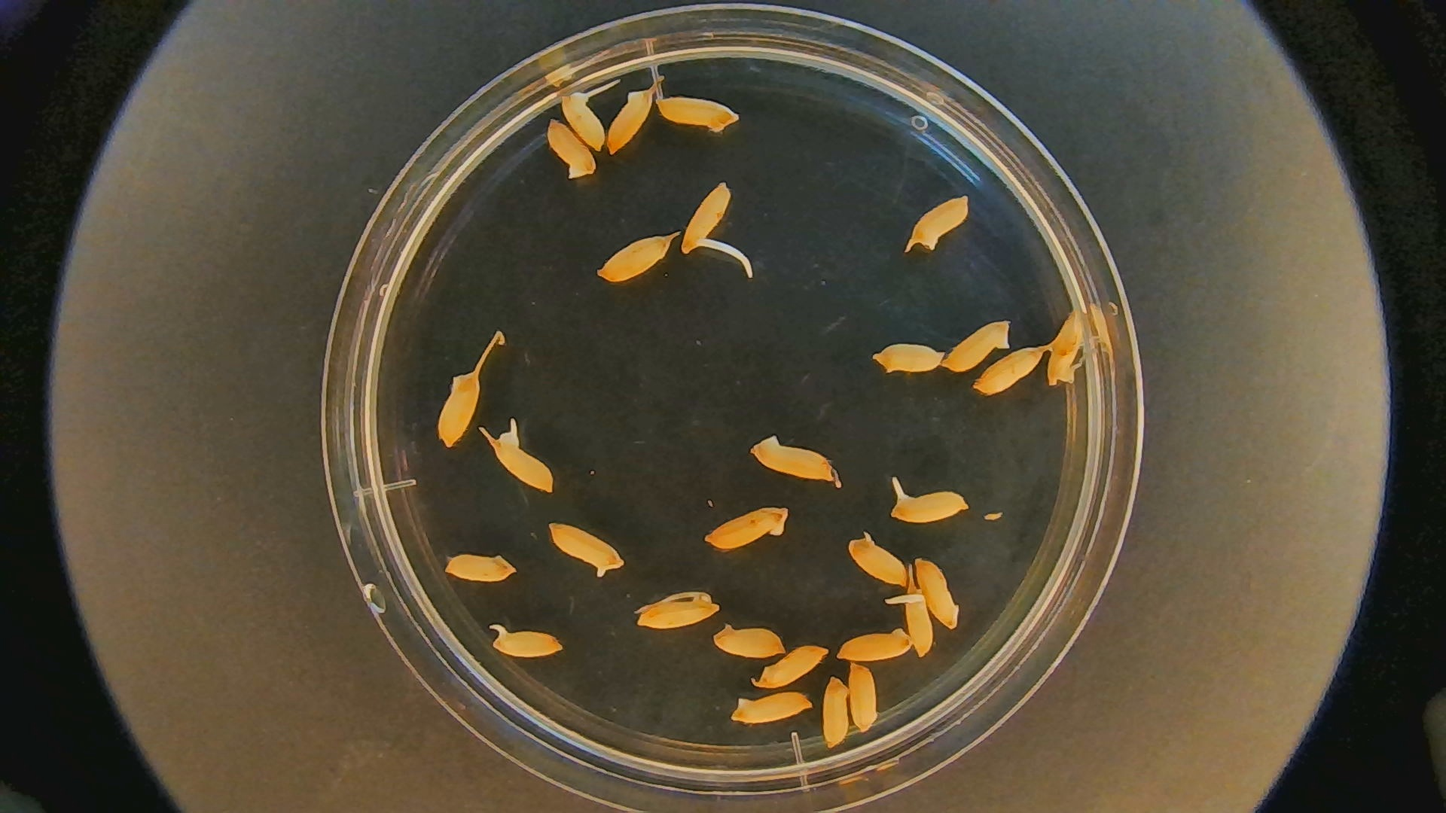no: (744, 431, 844, 492), (545, 519, 626, 580), (698, 503, 788, 552), (842, 525, 908, 591), (606, 80, 660, 160), (903, 194, 970, 257), (436, 363, 484, 447), (593, 230, 671, 281), (941, 319, 1014, 373), (653, 93, 742, 136), (917, 552, 965, 628), (1045, 308, 1090, 389), (973, 345, 1043, 397), (542, 114, 596, 180), (750, 644, 830, 688), (728, 687, 814, 726), (835, 626, 914, 666), (712, 622, 793, 659), (443, 547, 520, 585), (871, 343, 946, 379), (846, 658, 881, 731), (819, 678, 853, 747)
yes: (681, 178, 732, 254), (630, 589, 722, 629), (490, 437, 556, 489), (899, 577, 940, 654), (888, 488, 969, 525), (486, 626, 560, 664), (565, 84, 606, 147)
